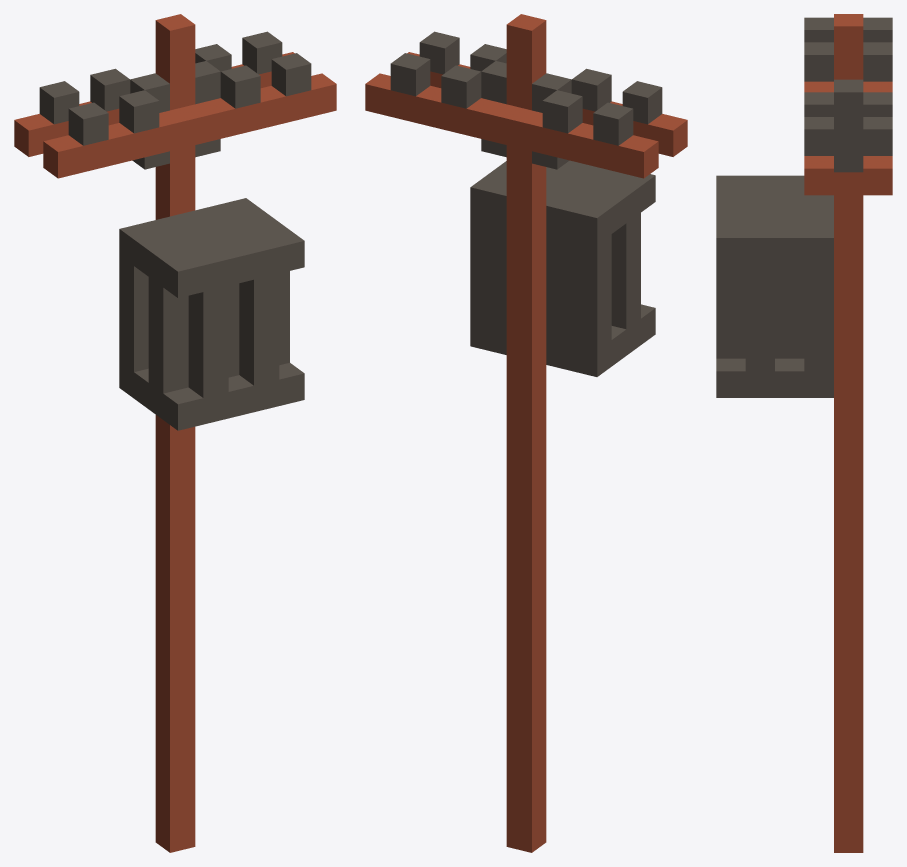
The model's file is utility_pole_b.obj.
The picture shows the model from 3 angles, left to right: view 1: azimuth 30°, elevation 25°; view 2: azimuth 150°, elevation 25°; view 3: azimuth 270°, elevation 25°; orthographic projection.
Size of the model in its own units: 1.1 by 3.1 by 0.6.
1 material, 1 textured.
